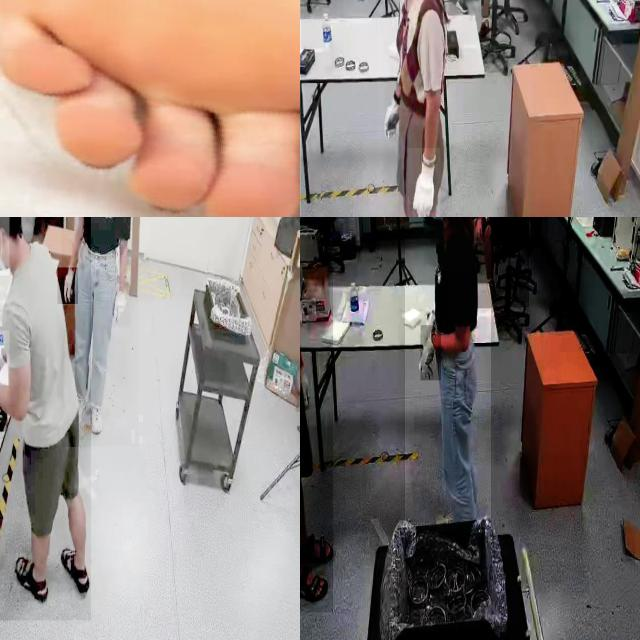Barefoots: (0, 0, 300, 217)
face_mask: (0, 217, 9, 275)
hand_glove: (407, 148, 440, 217), (421, 325, 442, 381), (384, 95, 402, 146), (111, 286, 131, 328), (58, 267, 78, 304), (0, 330, 9, 385)
hand_noglove: (474, 220, 484, 243)
person: (0, 217, 91, 621), (404, 217, 491, 533), (377, 0, 462, 217), (61, 217, 138, 447), (300, 217, 333, 613), (476, 217, 529, 308)
shoes: (88, 387, 105, 440), (454, 0, 468, 15)
